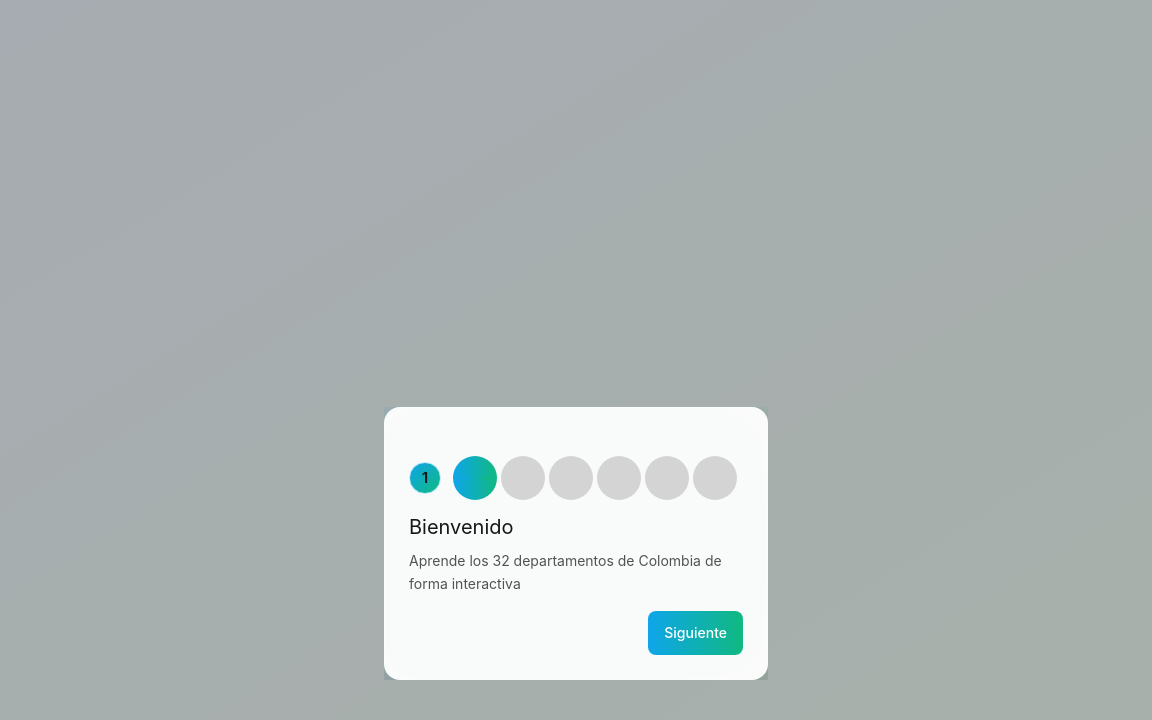
Test: InteractiveTutorial › Navigation › should go back to previous step
# Go forward
What coordinates should you click on to do the following:
click the button "Siguiente"
I would click on:
 (696, 633)
Its box is [648,611,743,655].
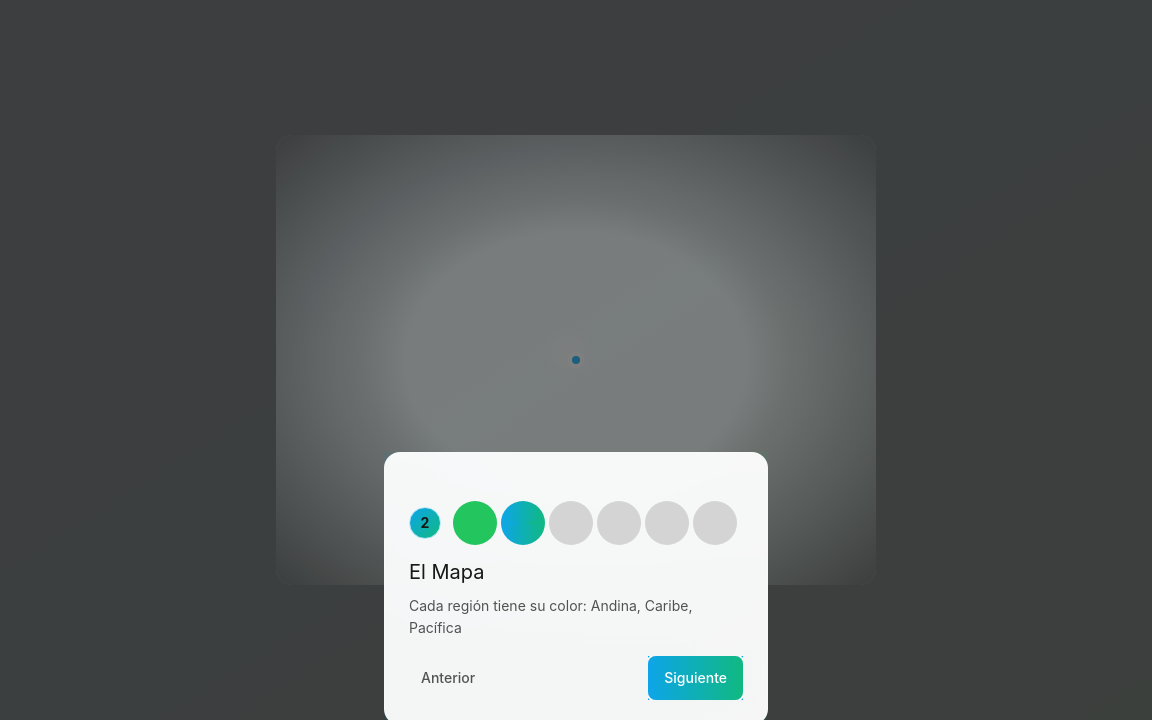
Expected: the heading "El Mapa" is shown, [409,560,484,584]
#  Go back
What coordinates should you click on to do the following:
click the button "Anterior"
I would click on:
 (448, 678)
Its box is [409,662,487,694].
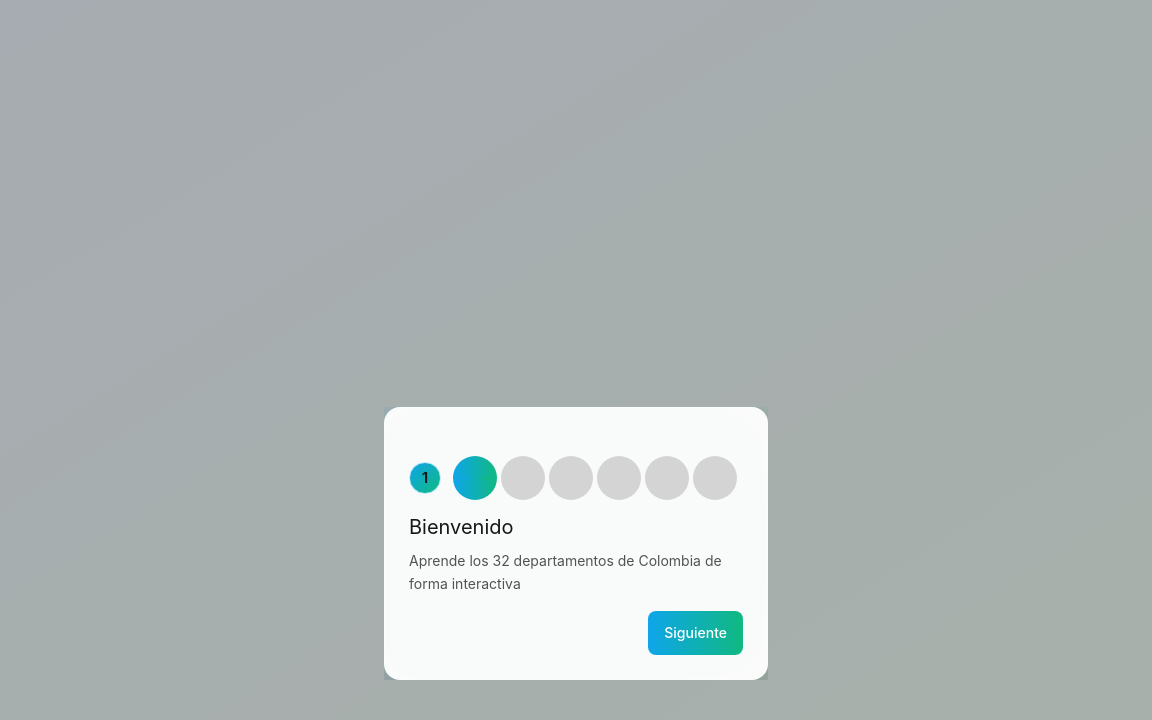
Expected: the heading "Bienvenido" is shown, [409,515,514,539]
